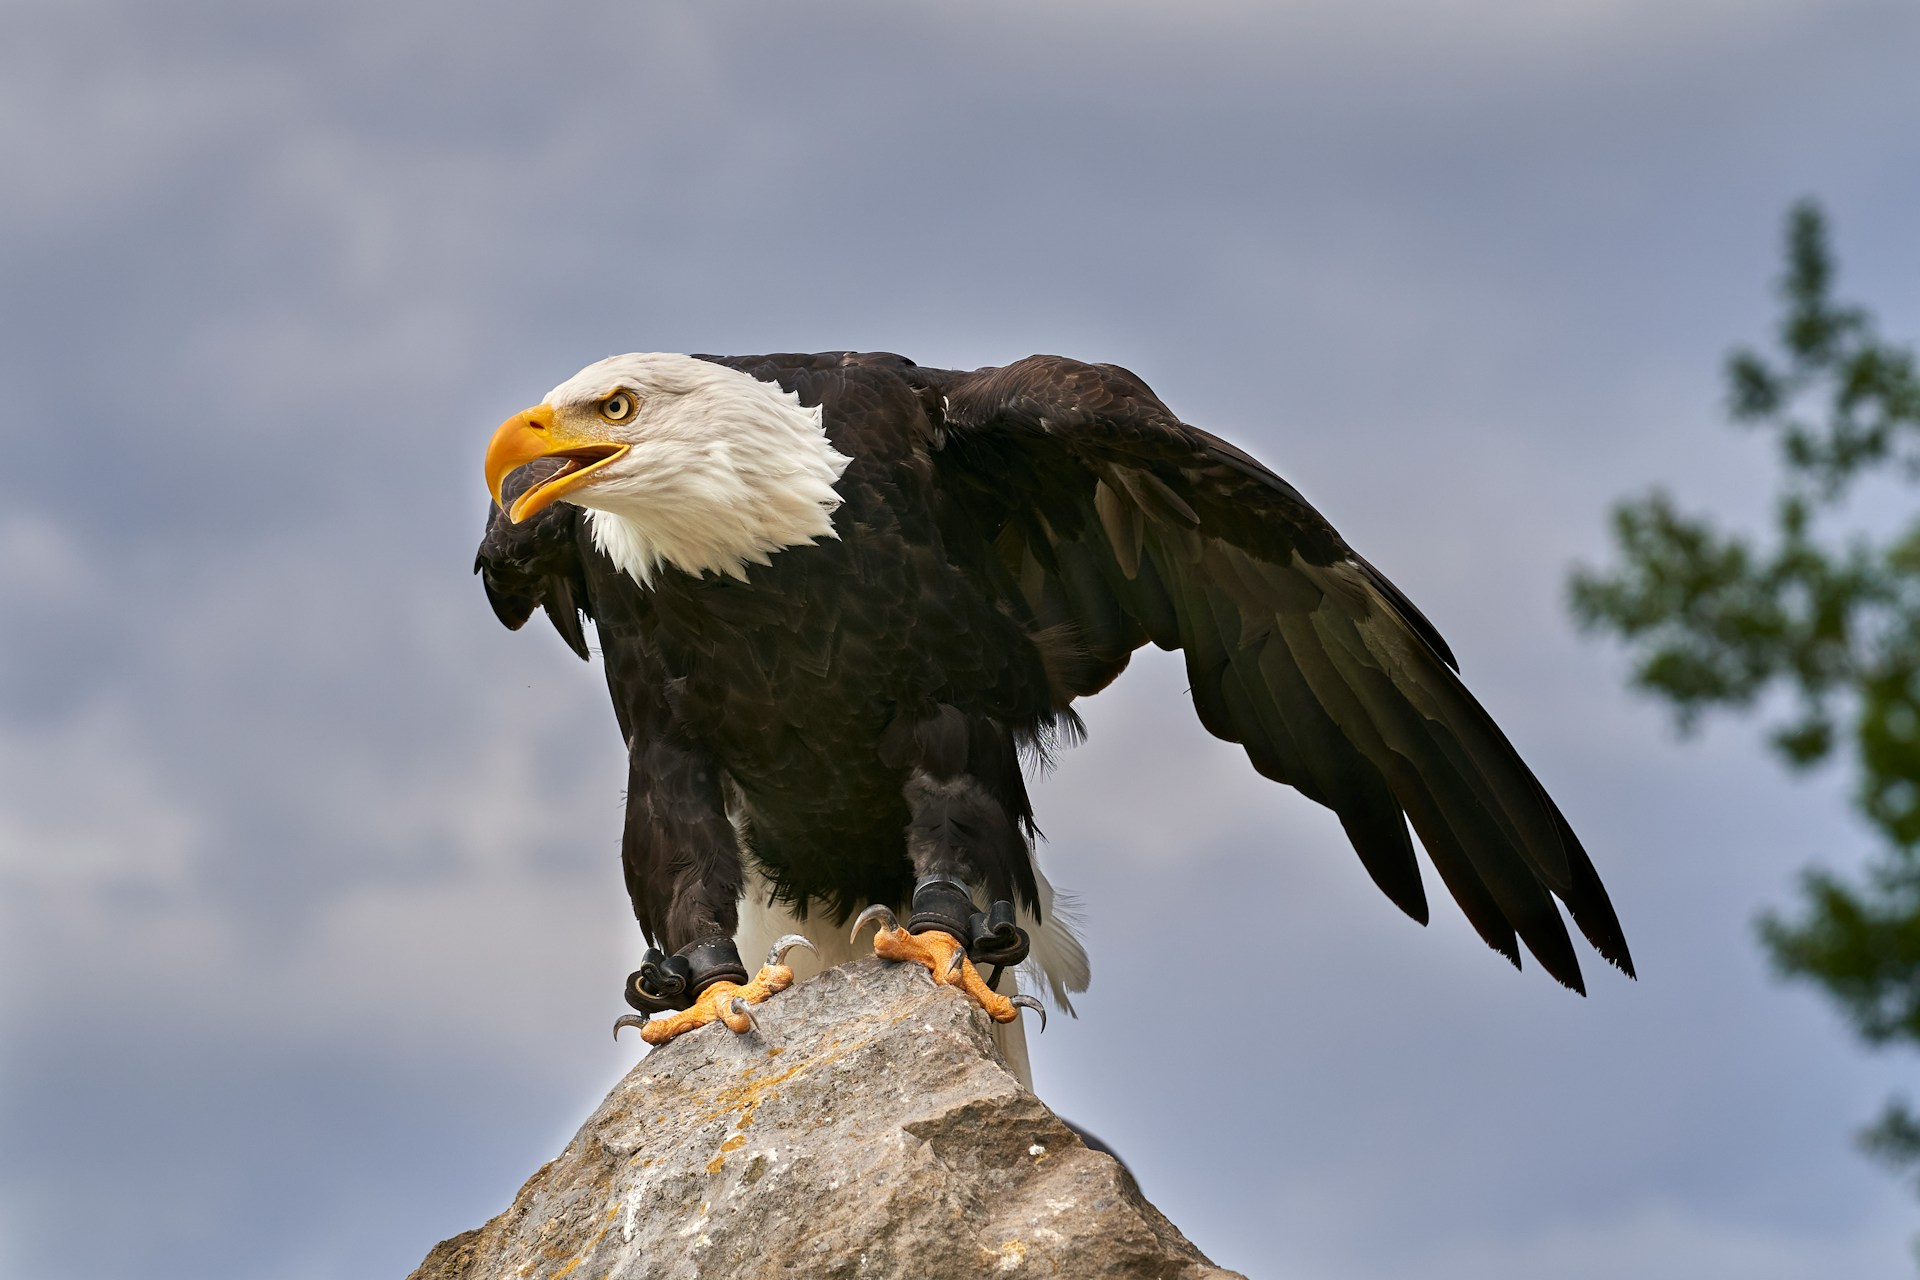eagle: (459, 330, 1651, 1061)
